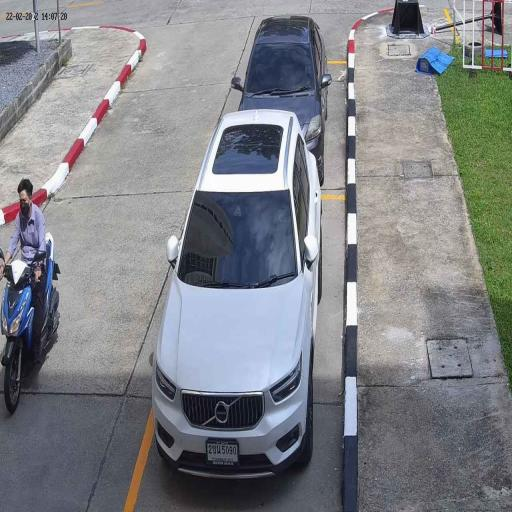car: (152, 108, 322, 482), (232, 16, 332, 187)
motorcycle: (0, 258, 60, 414)
